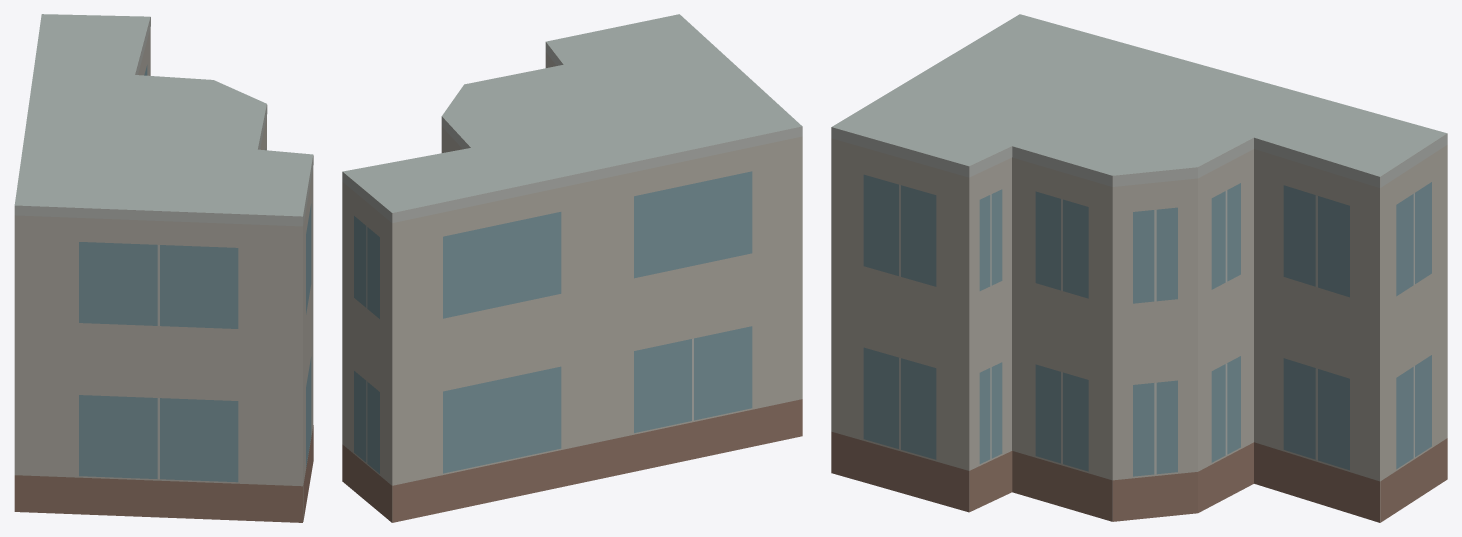
File: survey-upis-32512786.glb
3 renders of one model, left to right at view 1: azimuth 30°, elevation 25°; view 2: azimuth 150°, elevation 25°; view 3: azimuth 270°, elevation 25°, orthographic. The views are drawn at different scales.
Parts seen in each view (by area): view 1: survey-upis-32512786.tmp; view 2: survey-upis-32512786.tmp; view 3: survey-upis-32512786.tmp.
Boxes of the visible parts, x1=… form: survey-upis-32512786.tmp: x1=14, y1=14, x2=313, y2=522; survey-upis-32512786.tmp: x1=342, y1=14, x2=802, y2=522; survey-upis-32512786.tmp: x1=831, y1=14, x2=1447, y2=522.
Size of the model in its own units: 7.58 by 7.5 by 12.12.
